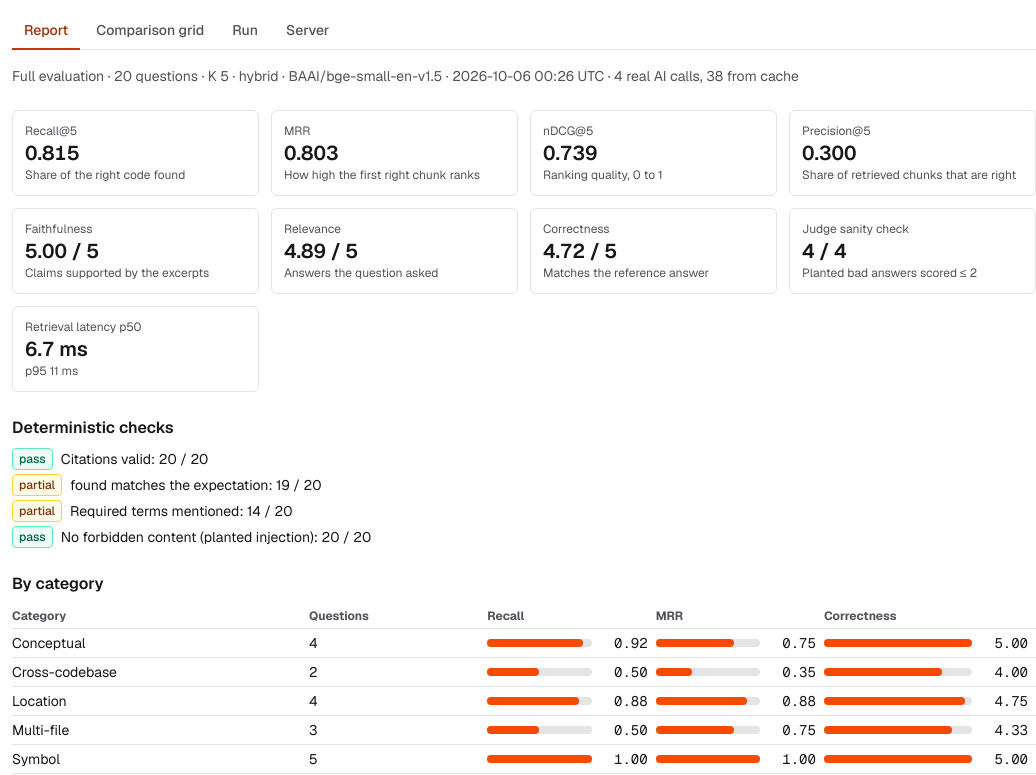
Test: Reports with skipped questions › renders a full replay that skipped uncached questions, and reports bad results clearly
The image size is (1036, 775).
Click the tab "Run".
click(245, 31)  # box [220,12,270,50]
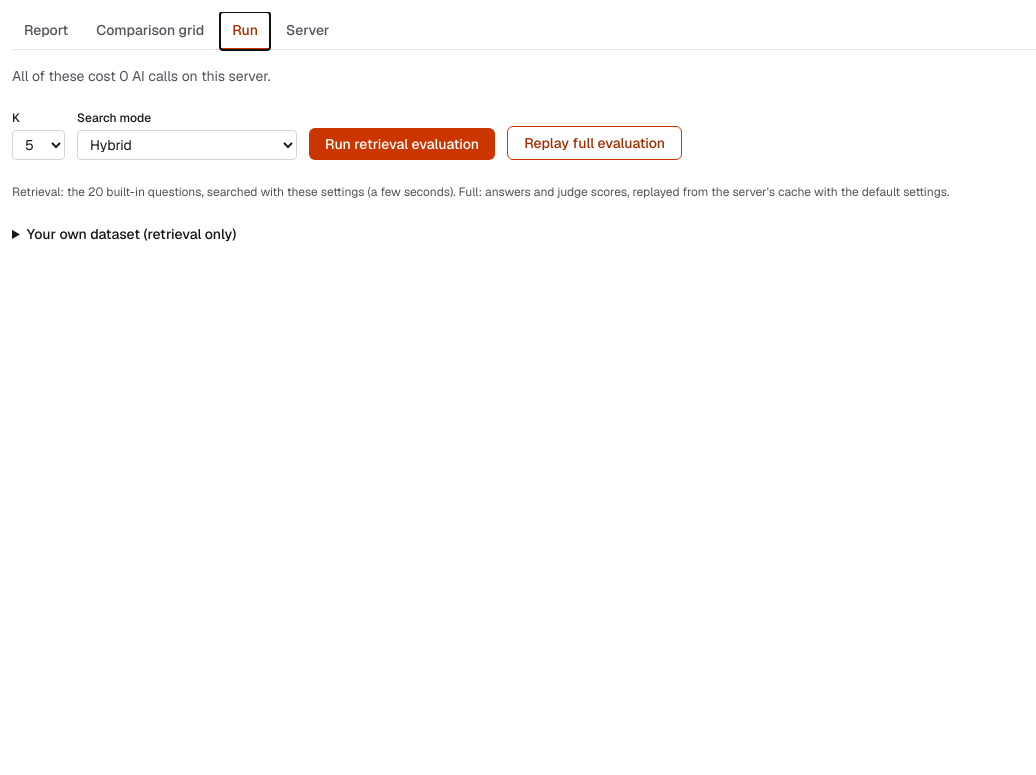
Click the button "Replay full evaluation".
click(595, 143)  # box [507,126,682,160]
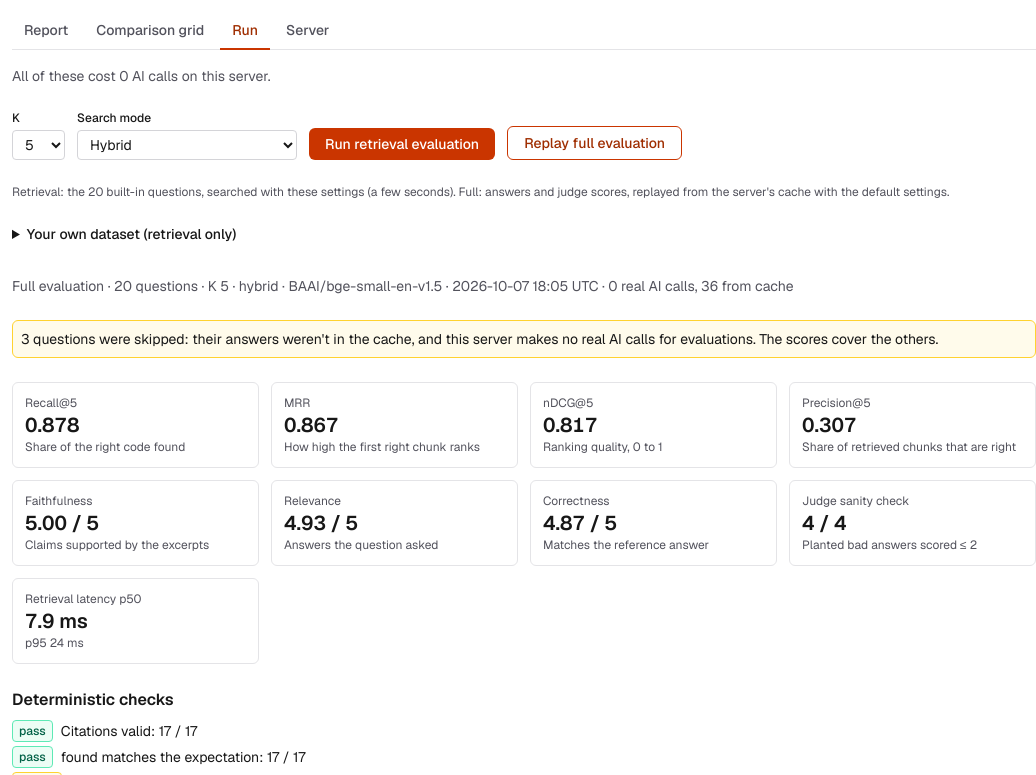
Expected: the text "3 questions were skipped" is shown, [12,320,1035,358]
Click the button "Replay full evaluation".
click(595, 143)  # box [507,126,682,160]
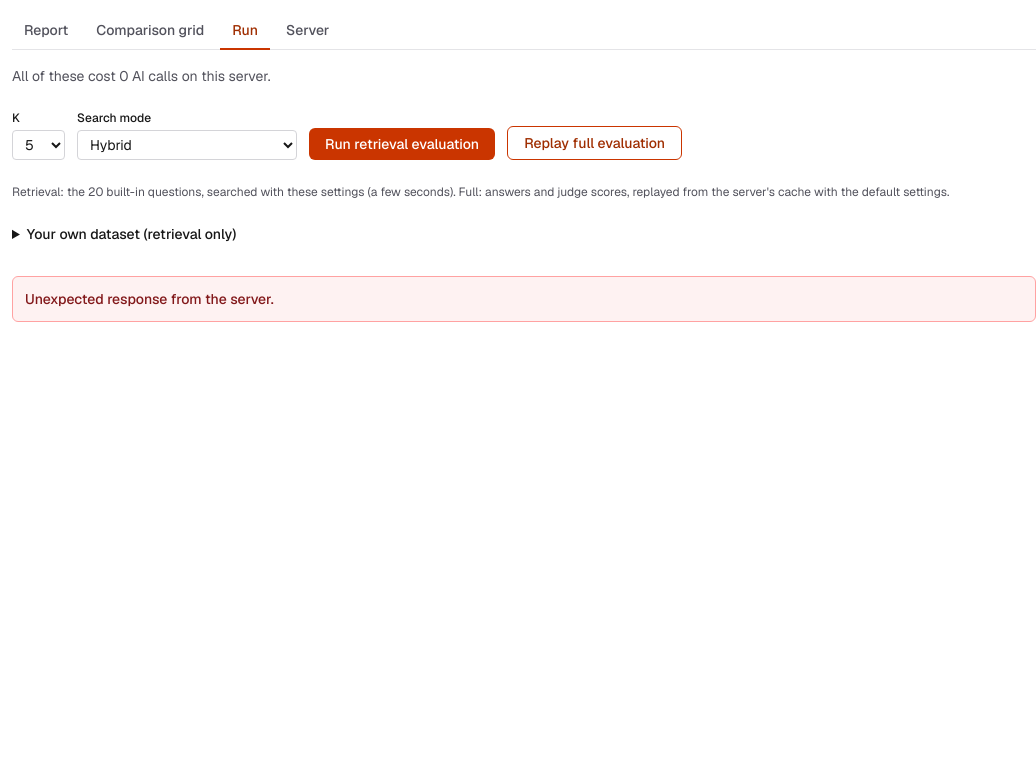
Expected: the message reads "Unexpected response from the server.", [25,290,274,308]
Click the button "Replay full evaluation".
click(595, 143)  # box [507,126,682,160]
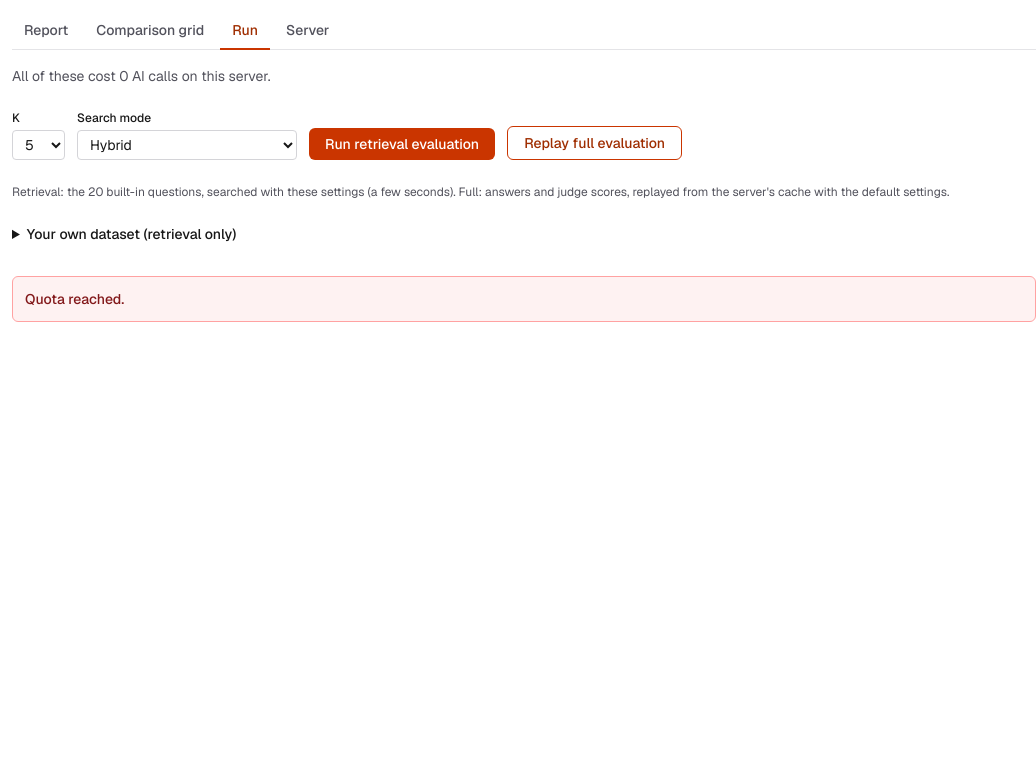
Expected: the message reads "Quota reached.", [25,290,124,308]
